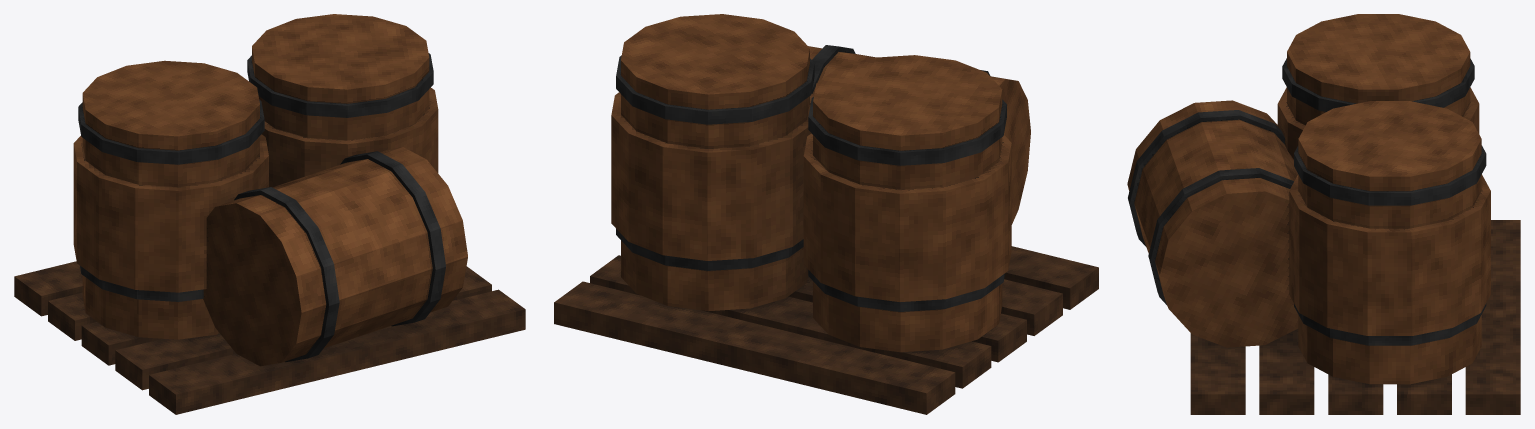
File: siracusa_barrels.glb
The picture shows the model from 3 angles, left to right: view 1: azimuth 30°, elevation 25°; view 2: azimuth 150°, elevation 25°; view 3: azimuth 270°, elevation 25°; orthographic projection. The views are drawn at different scales.
Visible parts, largest first — view 1: siracusa_barrels; view 2: siracusa_barrels; view 3: siracusa_barrels.
Part boxes in pixels (bbox=[...]): siracusa_barrels: bbox=[14, 14, 525, 414]; siracusa_barrels: bbox=[554, 14, 1098, 414]; siracusa_barrels: bbox=[1127, 14, 1520, 414].
Bounding box in the file's own units: 1.8 × 1.12 × 1.72.
Materials: 3 (3 with a texture image).
